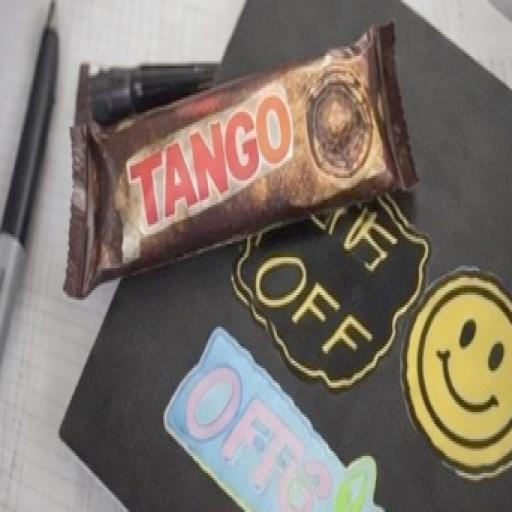tango: (38, 26, 452, 286)
